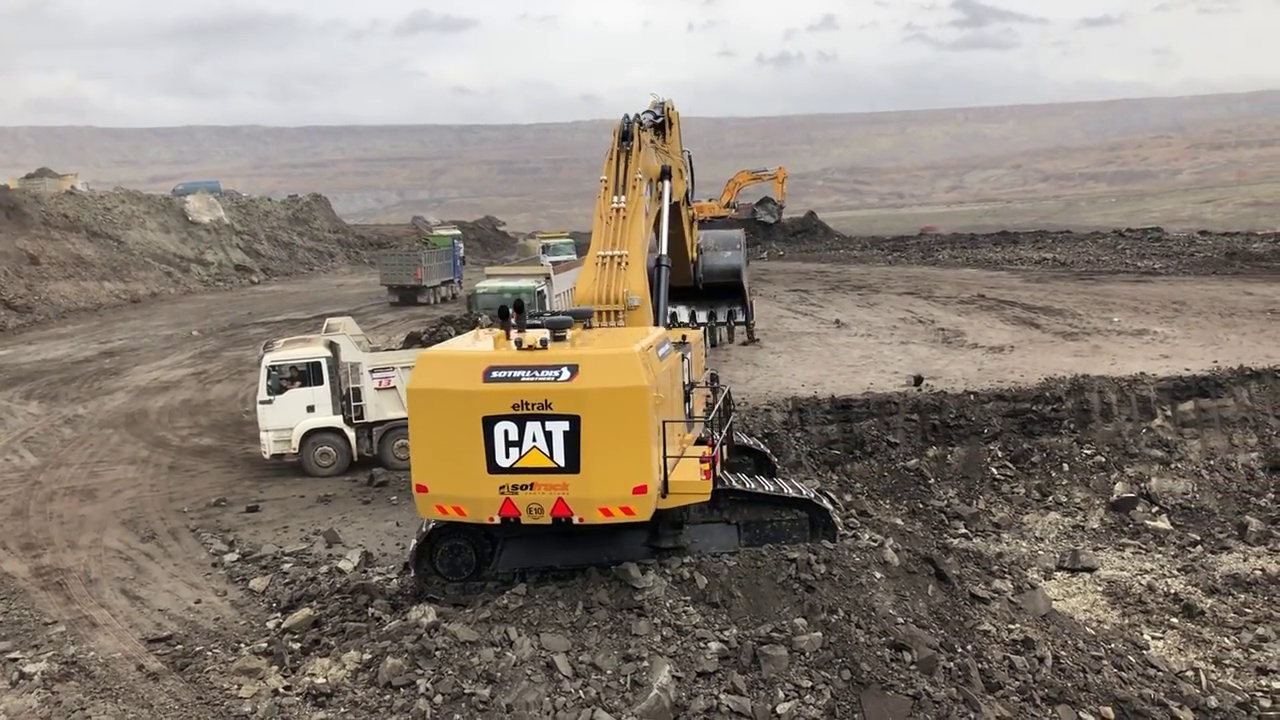excavator: (403, 89, 843, 585), (688, 163, 791, 242)
truck: (251, 316, 510, 479), (381, 239, 468, 310), (15, 163, 92, 204), (520, 232, 581, 282)
